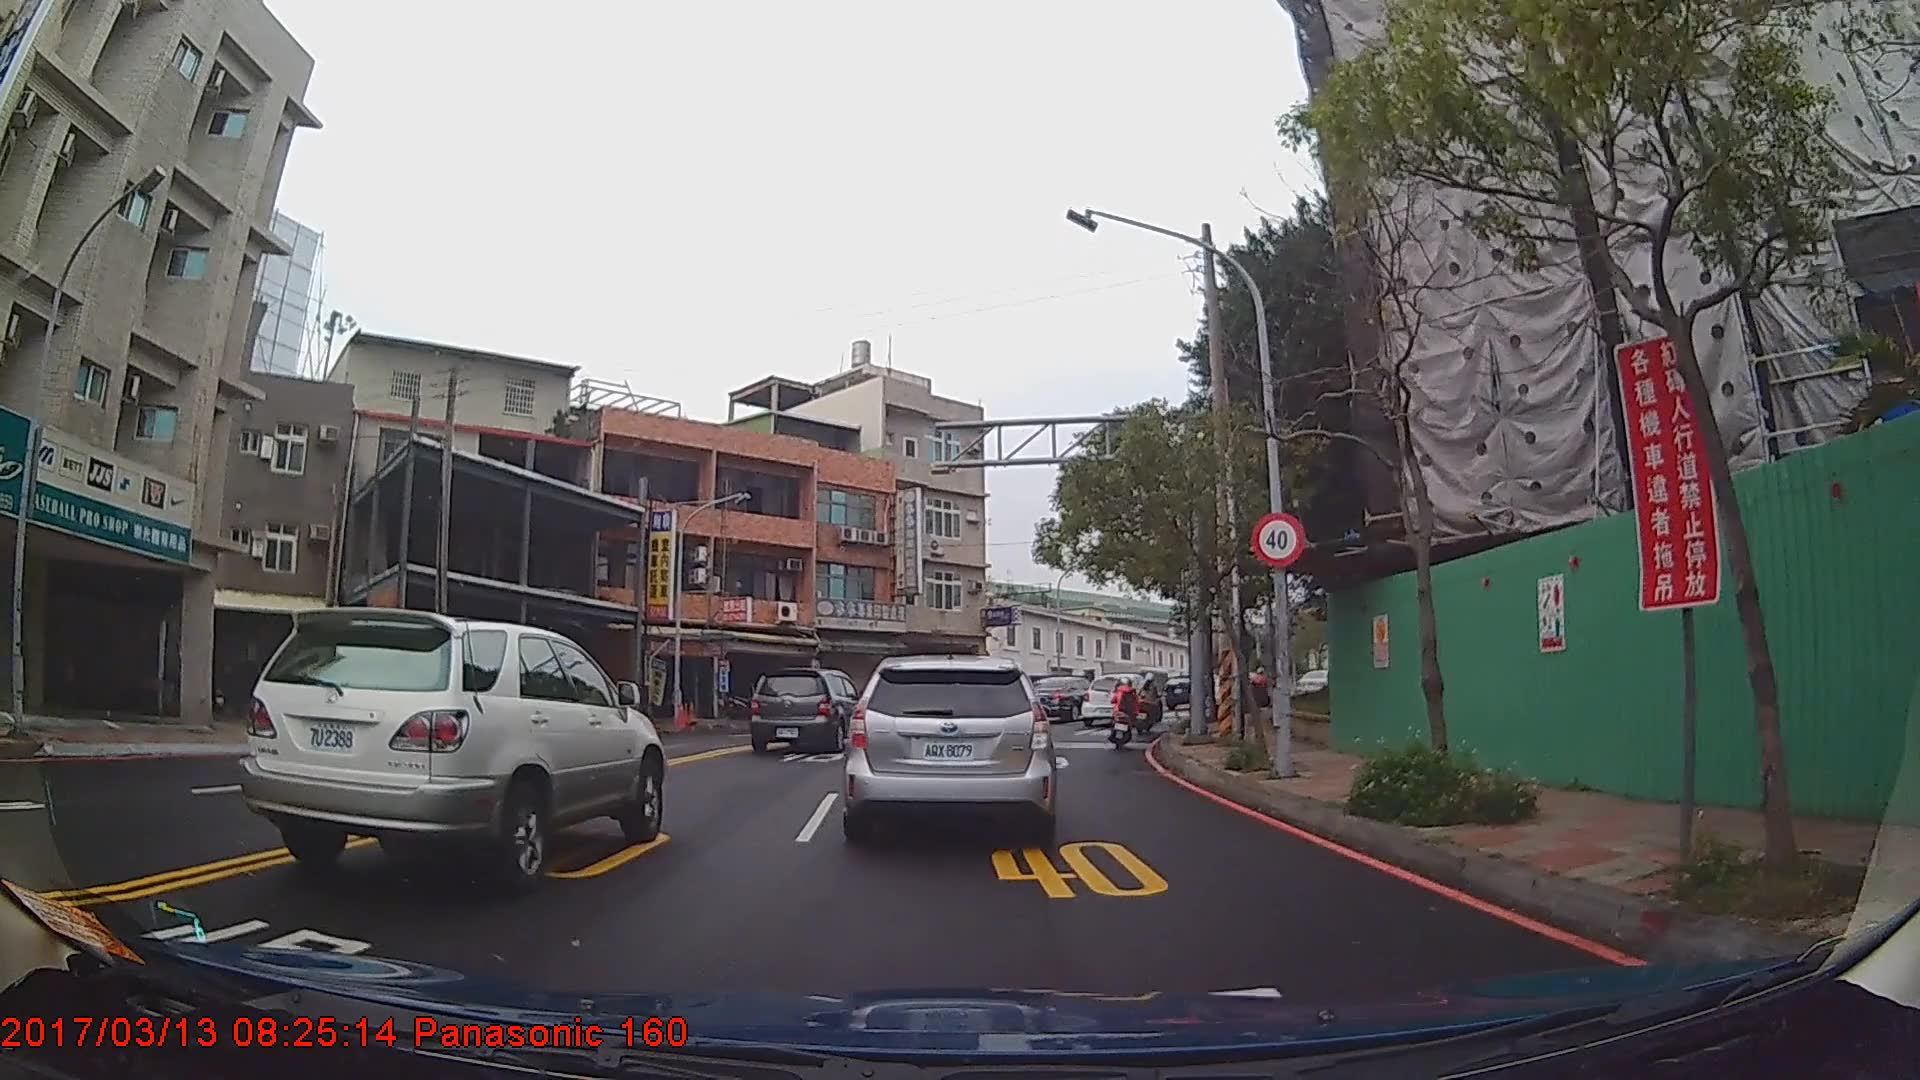rider: (1111, 679, 1140, 750), (1136, 673, 1162, 735)
vehicle: (241, 604, 664, 892), (841, 652, 1058, 847), (749, 666, 869, 754), (1076, 671, 1156, 729)
